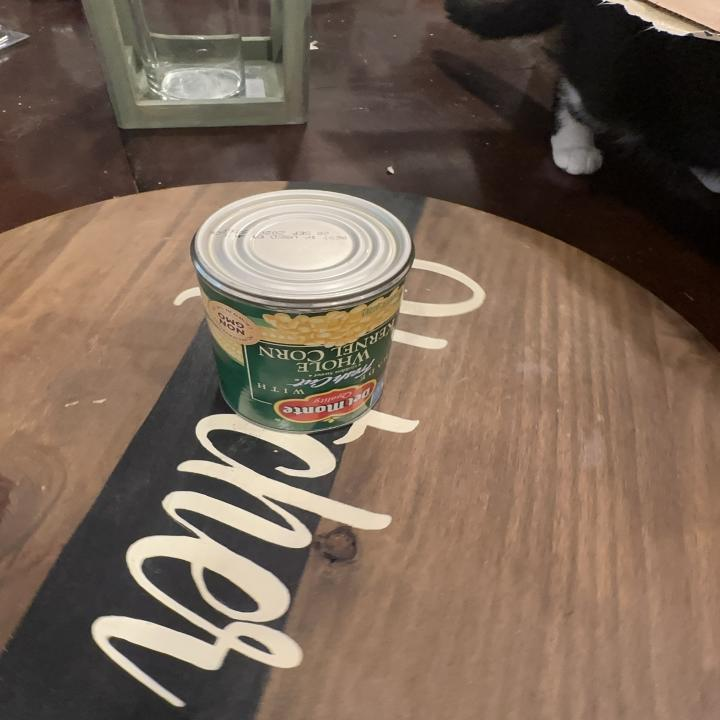Canned-Corn: (191, 189, 428, 440)
